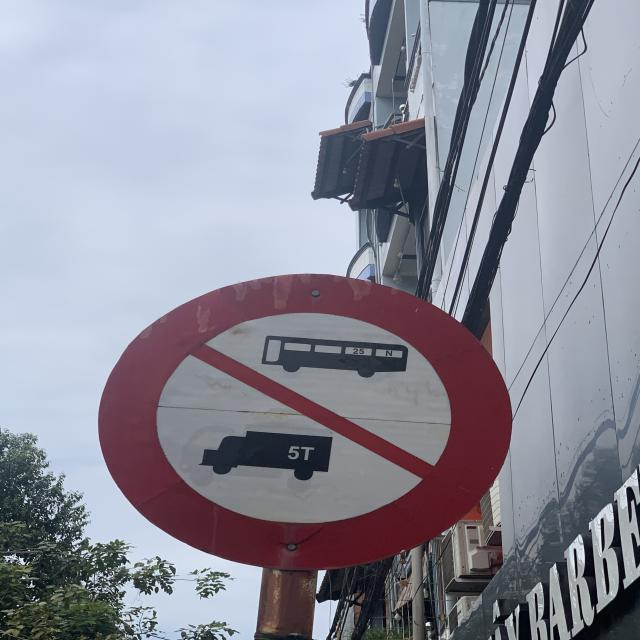Cam_XeTai_XeKhach: (94, 268, 512, 576)
